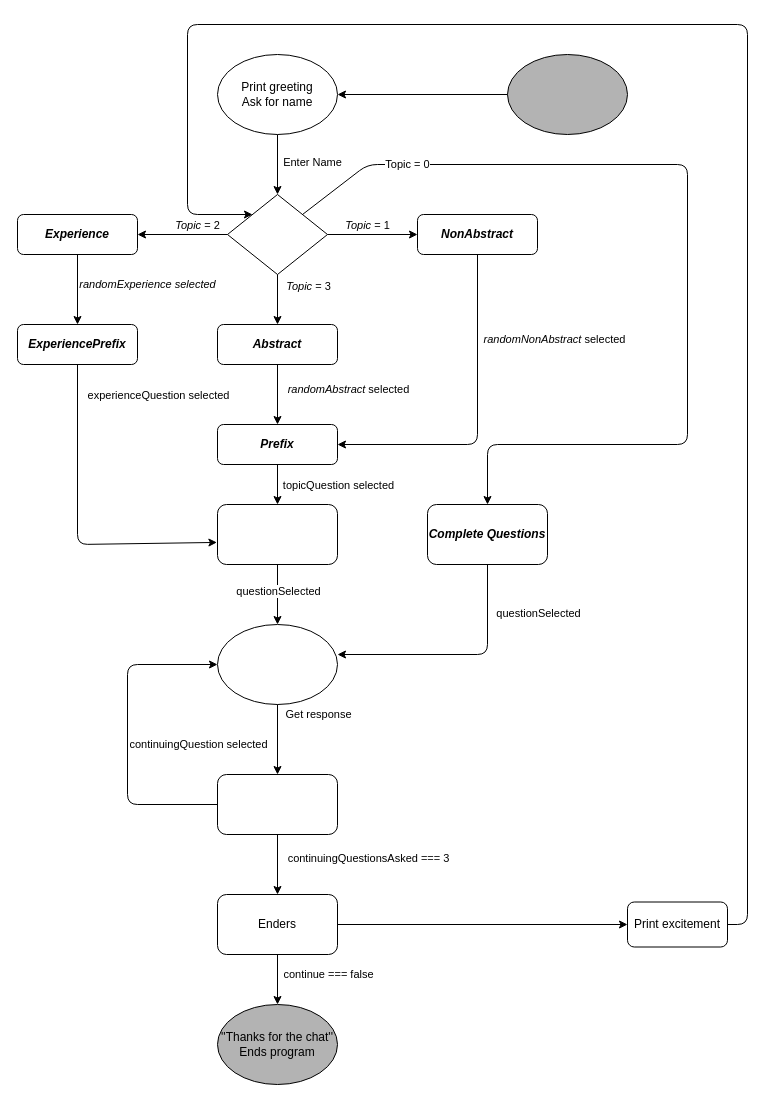
The diagram is 773 pixels wide and 1102 high, and some of its shapes have lost their labels. Each missing label, with the centre of its shape:
"Continuer" goes at pixel 277 804.
"Prints question" goes at pixel 277 664.
"QuestionGenerator" goes at pixel 277 534.
"Start program" goes at pixel 567 94.
"TopicGenerator" goes at pixel 277 234.
